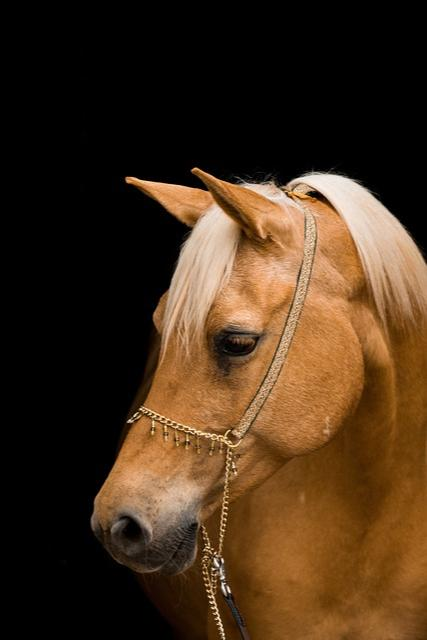Non_Gorille: (33, 51, 427, 640)
